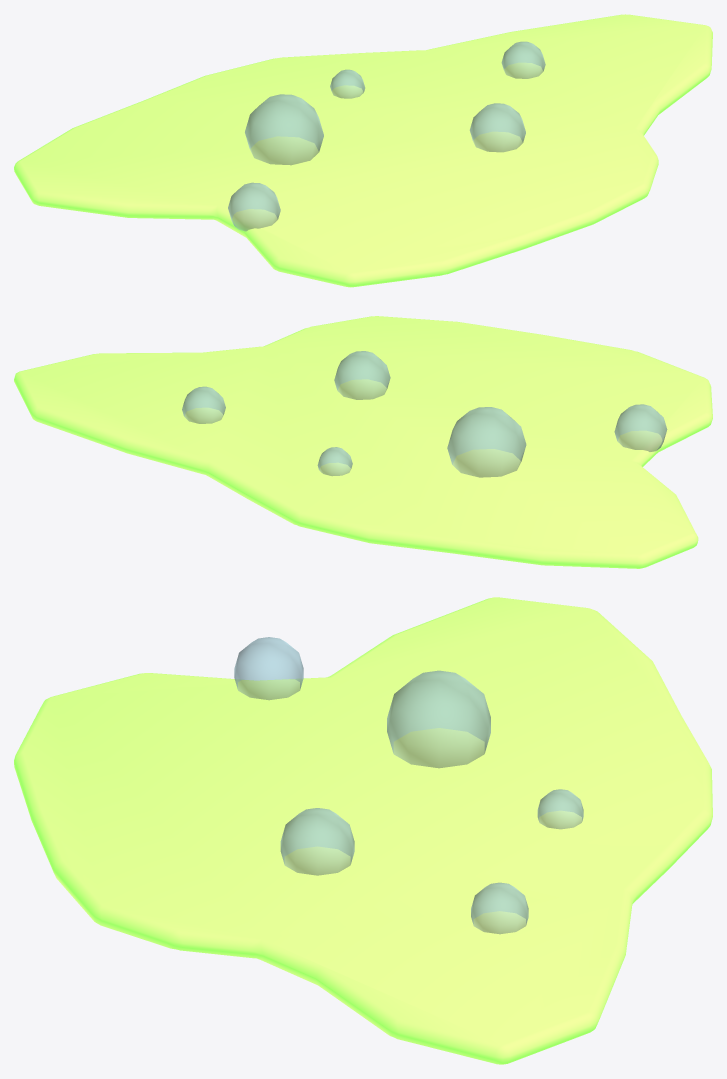
The model's file is CharcoSlime.fbx.
3 views of the same model, one above another, from view 1: azimuth 30°, elevation 25°; view 2: azimuth 150°, elevation 25°; view 3: azimuth 270°, elevation 25° (orthographic). The views are drawn at different scales.
Visible parts, largest first — view 1: CharcoSlime_Charco_Neon, CharcoSlime_Burbujas_Vidrio; view 2: CharcoSlime_Charco_Neon, CharcoSlime_Burbujas_Vidrio; view 3: CharcoSlime_Charco_Neon, CharcoSlime_Burbujas_Vidrio.
Part boxes in pixels (x1,y1,x2,y2): CharcoSlime_Charco_Neon: (14, 14, 712, 287); CharcoSlime_Burbujas_Vidrio: (228, 41, 545, 231); CharcoSlime_Charco_Neon: (14, 316, 712, 568); CharcoSlime_Burbujas_Vidrio: (182, 351, 667, 477); CharcoSlime_Charco_Neon: (14, 597, 712, 1064); CharcoSlime_Burbujas_Vidrio: (234, 637, 583, 934).
Bounding box in the file's own units: 8.86 × 0.9 × 5.75.
